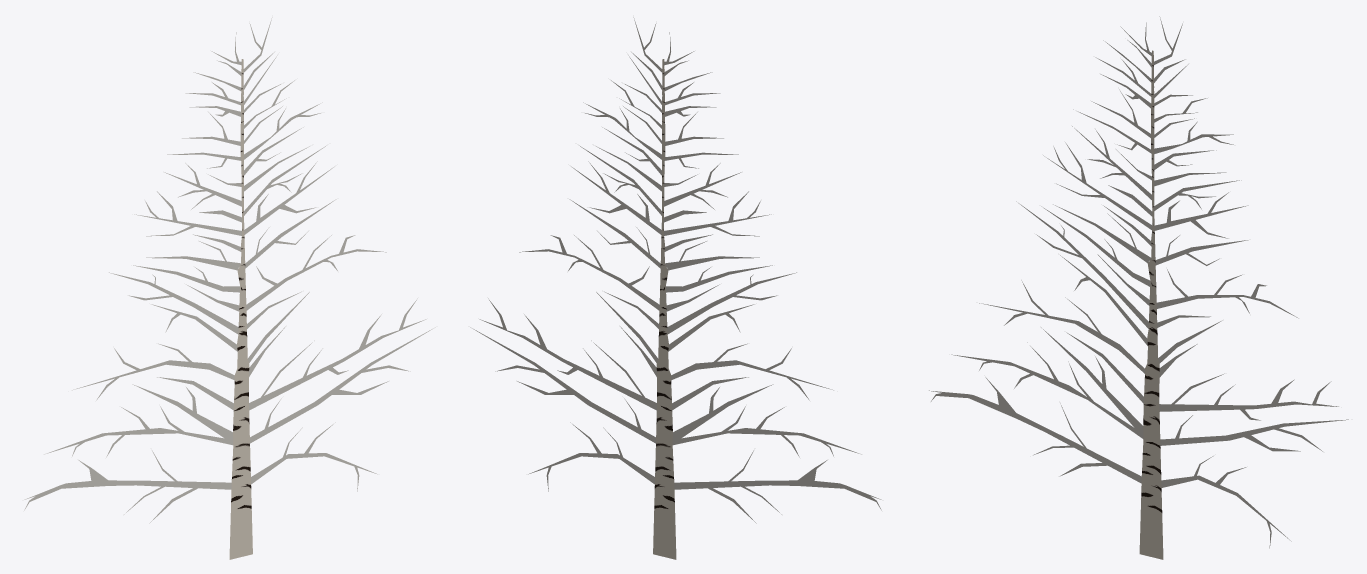
File: Birch_01.fbx
3 views of the same model, side by side, from view 1: azimuth 30°, elevation 25°; view 2: azimuth 150°, elevation 25°; view 3: azimuth 330°, elevation 25° (orthographic).
Parts seen in each view (by area): view 1: planarTrimmedSurface1; view 2: planarTrimmedSurface1; view 3: planarTrimmedSurface1.
Boxes of the visible parts, x1,y1,x2,y2 form: planarTrimmedSurface1: (24,17,435,559); planarTrimmedSurface1: (470,17,881,559); planarTrimmedSurface1: (929,16,1348,559).
Size of the model in its own units: 6.81 by 8.21 by 0.
Materials: 2 (1 with a texture image).
